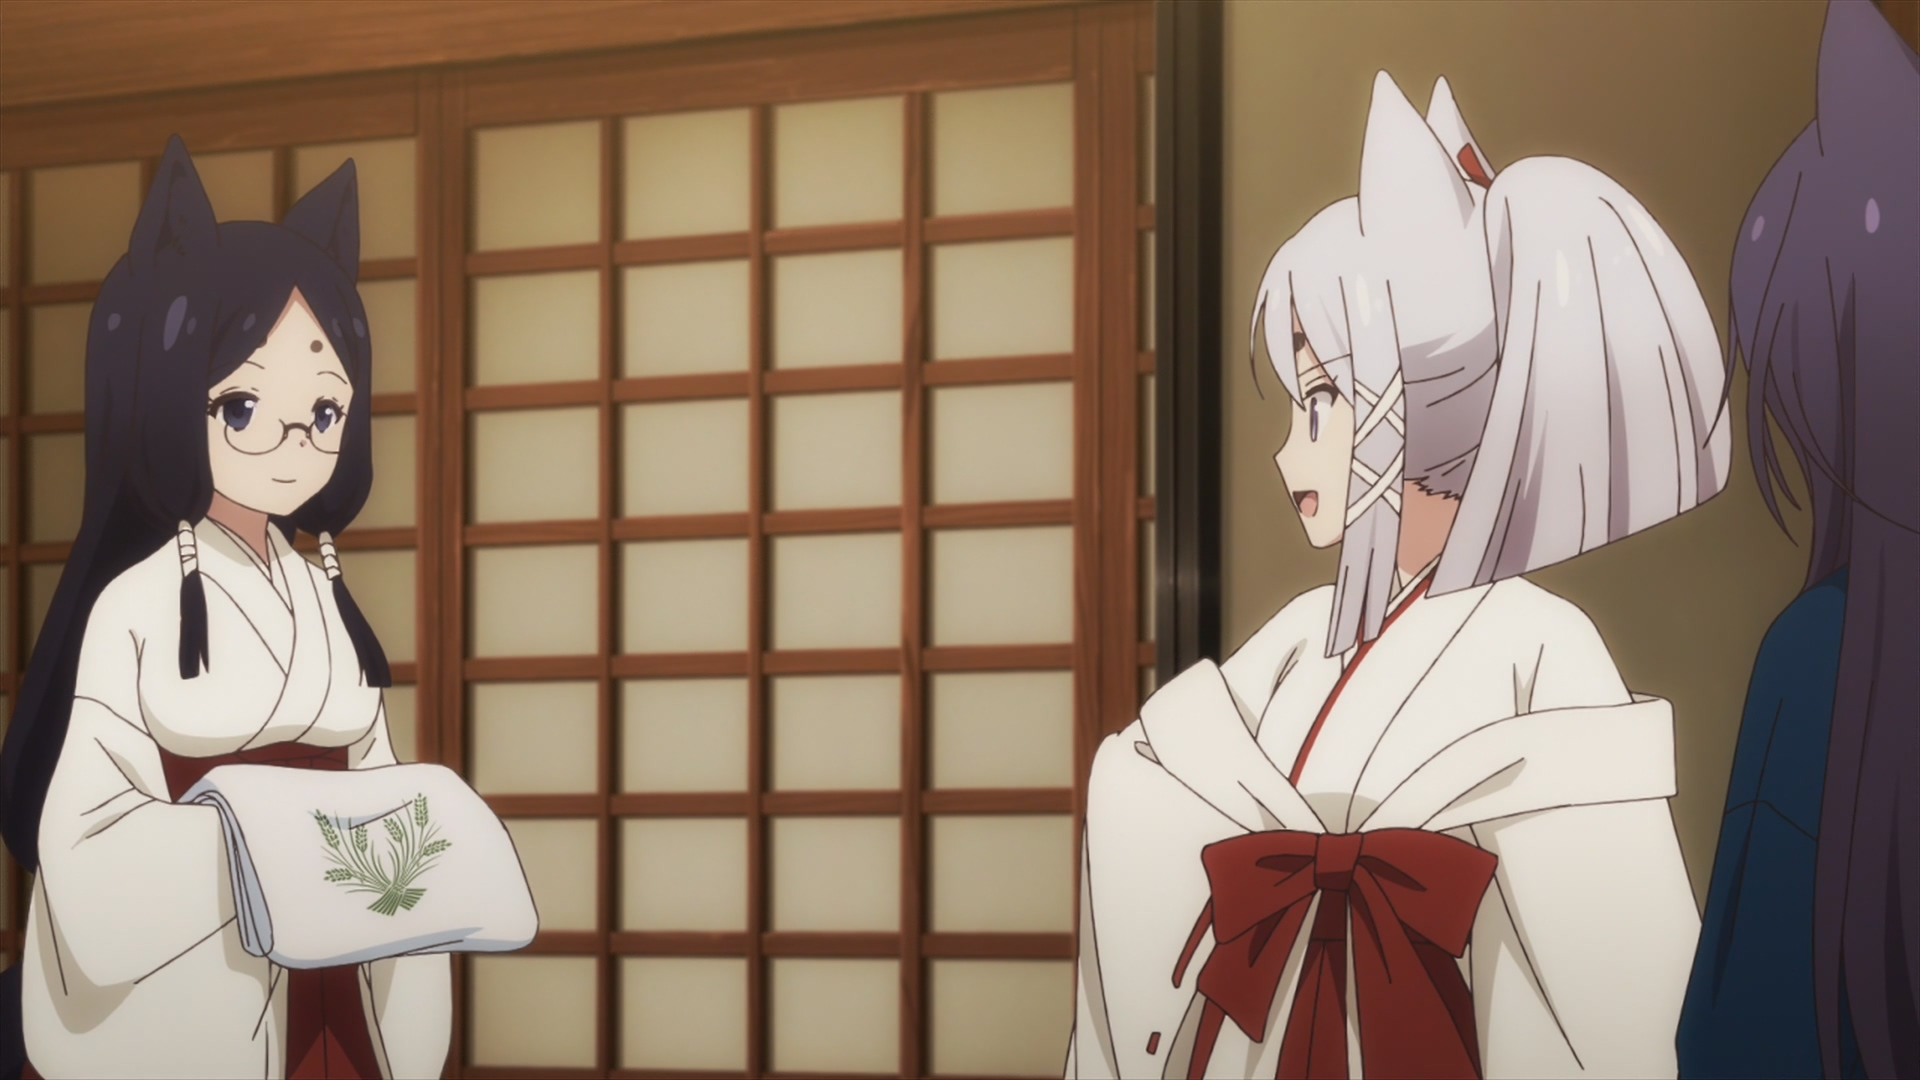柊: (1065, 71, 1731, 1080)
皋: (1673, 1, 1920, 1080)
菖: (24, 135, 450, 1080)
